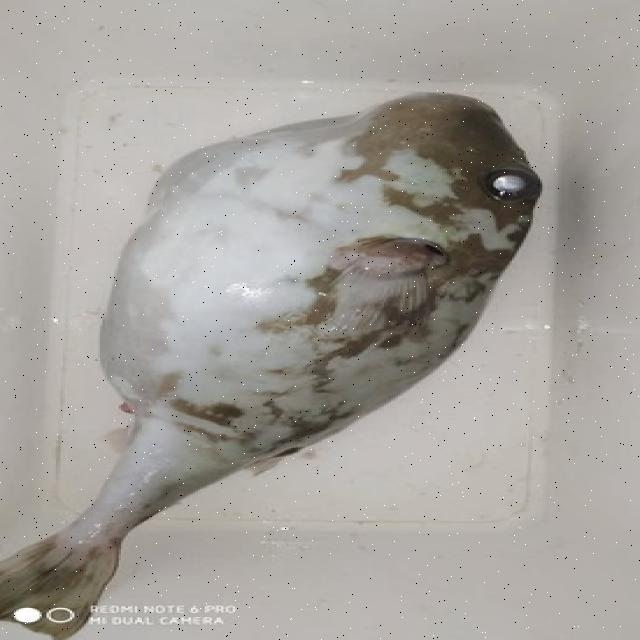Balik: (0, 94, 539, 639)
